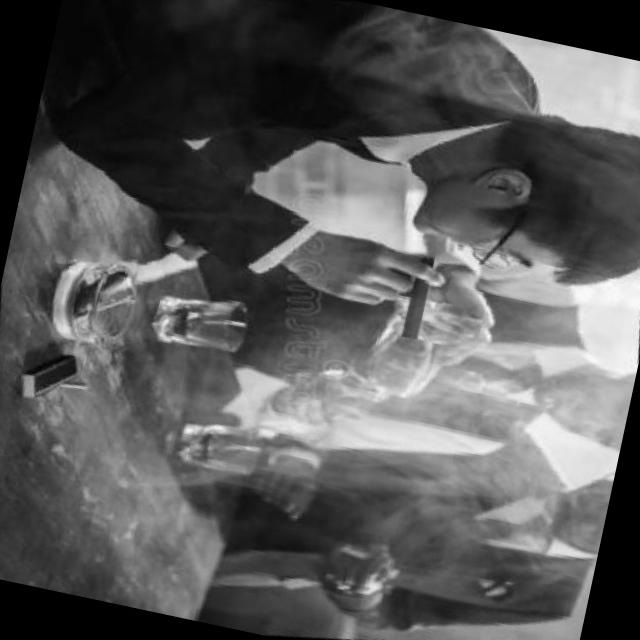cigarette: (385, 250, 452, 352)
